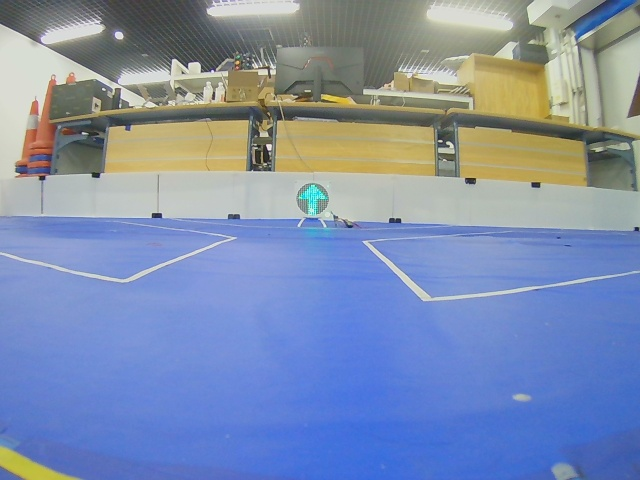straight_green: (297, 183, 329, 216)
